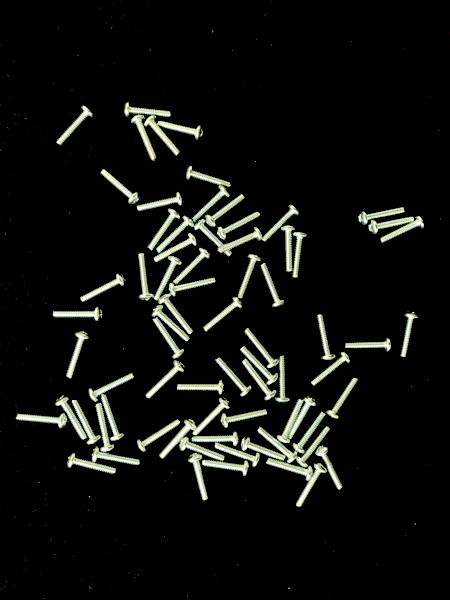longscrew: (213, 355, 253, 399), (143, 116, 184, 158), (145, 359, 186, 401), (192, 395, 232, 438), (56, 103, 95, 147), (239, 345, 280, 386), (257, 425, 299, 465), (100, 167, 143, 206), (240, 359, 278, 403), (136, 418, 183, 453), (155, 214, 195, 255), (159, 418, 197, 461), (158, 294, 196, 337), (243, 327, 281, 370), (293, 410, 329, 455), (194, 219, 234, 259), (151, 305, 192, 344), (191, 184, 230, 225), (55, 395, 89, 442), (262, 202, 300, 244), (88, 371, 136, 404), (152, 316, 188, 360), (296, 425, 332, 469), (326, 376, 361, 421), (129, 114, 161, 163), (79, 272, 128, 304), (203, 295, 243, 334), (310, 351, 352, 388), (295, 462, 328, 509), (147, 208, 182, 252), (205, 192, 246, 229), (71, 398, 102, 446), (173, 248, 211, 287), (153, 233, 199, 265), (216, 210, 263, 241), (315, 446, 346, 493), (379, 214, 427, 244), (153, 255, 182, 304), (288, 395, 317, 443), (217, 226, 264, 255), (213, 441, 262, 468), (100, 394, 126, 443), (266, 457, 315, 483), (67, 452, 120, 476), (240, 436, 287, 463), (66, 330, 91, 380), (179, 437, 227, 463), (278, 397, 304, 445), (261, 262, 287, 309), (184, 165, 234, 189), (188, 453, 212, 503), (91, 445, 142, 468), (238, 253, 262, 301), (136, 191, 186, 214), (357, 204, 407, 227), (156, 119, 205, 142), (368, 215, 417, 238), (94, 403, 116, 453), (168, 276, 218, 298), (315, 312, 337, 362), (220, 407, 270, 429), (15, 411, 69, 431), (399, 309, 420, 359), (136, 252, 156, 302), (202, 458, 252, 478), (121, 101, 175, 119), (52, 306, 105, 323), (274, 355, 292, 405), (176, 380, 228, 397), (343, 336, 393, 353), (282, 224, 298, 276), (189, 432, 241, 448), (293, 229, 309, 280)
